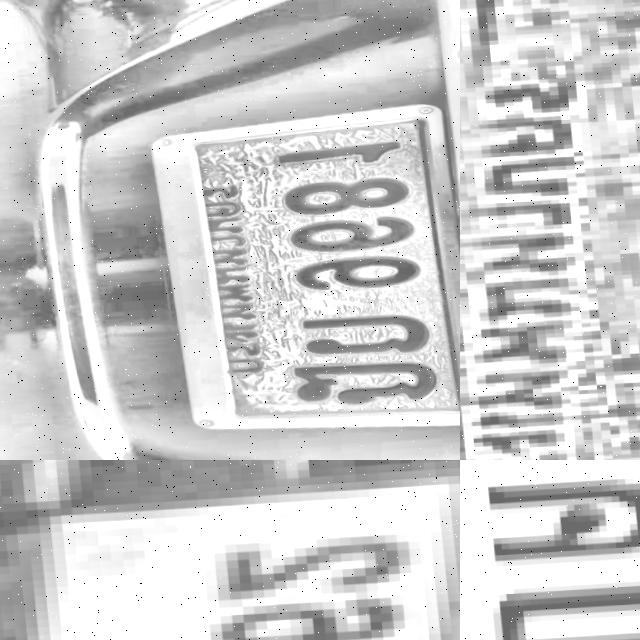license-plate: (134, 104, 460, 454), (460, 0, 640, 460), (32, 485, 458, 640), (460, 460, 640, 640)
